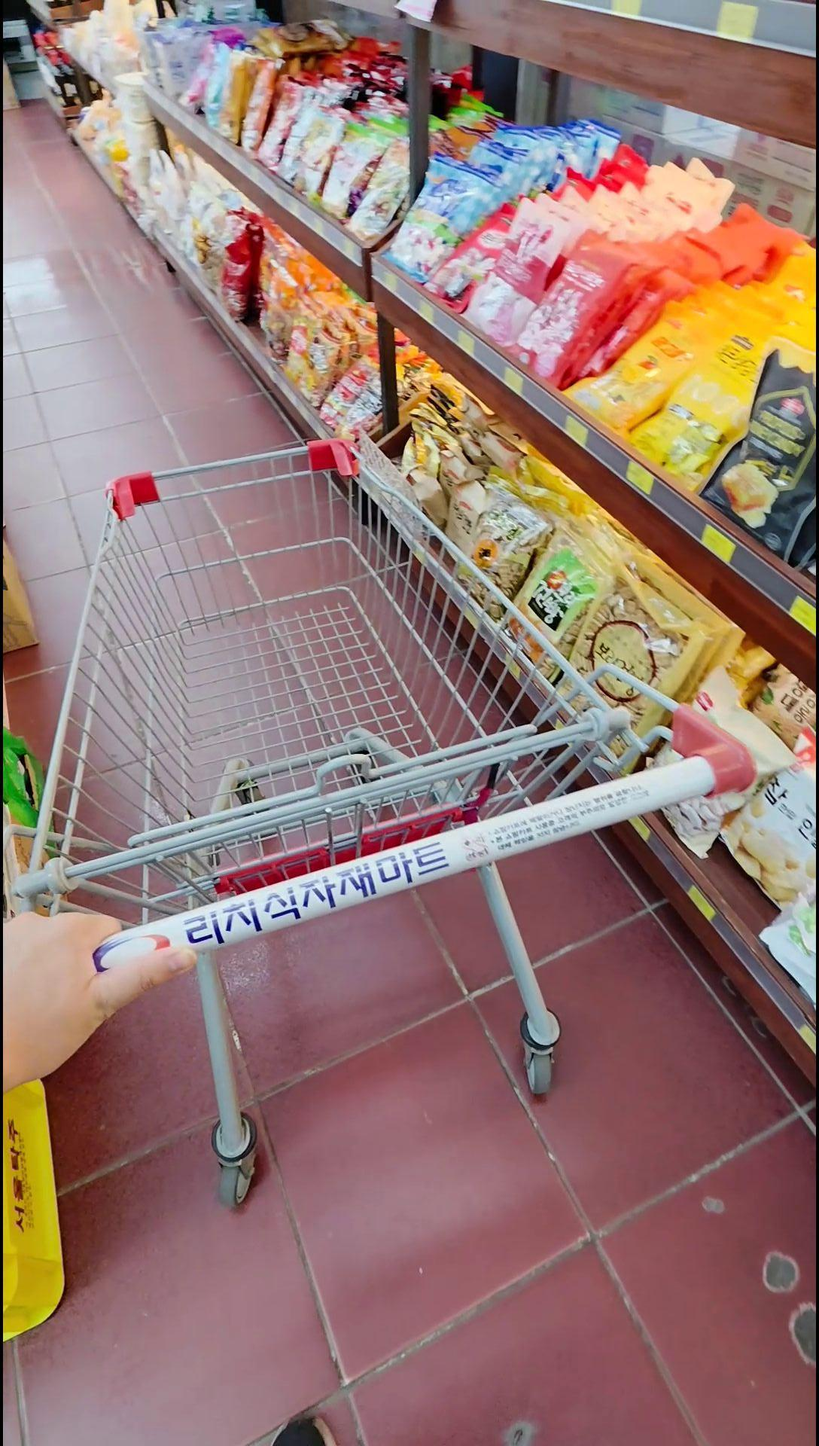empty_cart: (0, 444, 760, 1217)
